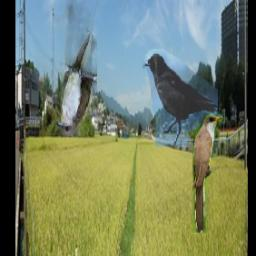Crow: (143, 49, 219, 147)
Cuckoo: (55, 0, 98, 136), (193, 115, 223, 234)
